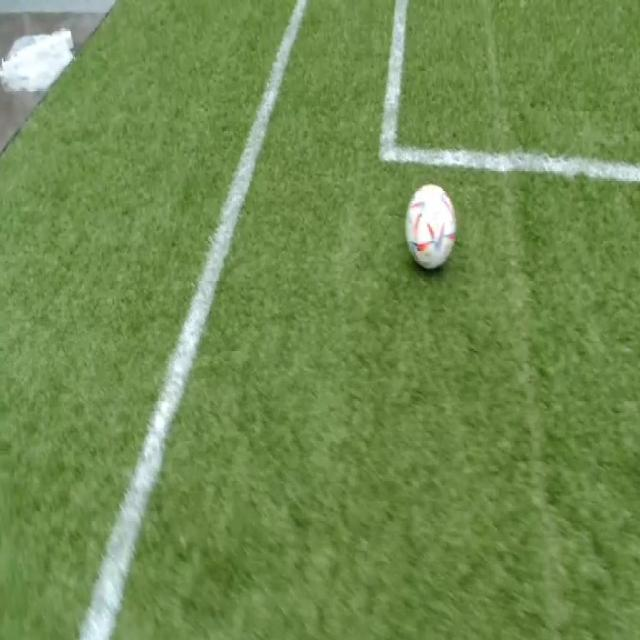ball: (405, 184, 457, 269)
